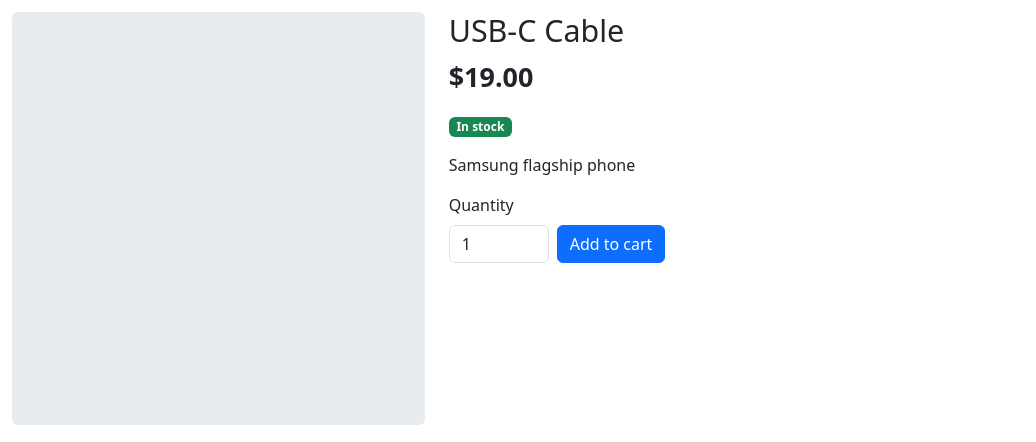
Test: ProductDetails stock › shows the cart's stock message when adding too many
The width and height of the screenshot is (1036, 442).
Click the button "Add to cart": {"x": 611, "y": 244} left=557, top=225, right=665, bottom=263
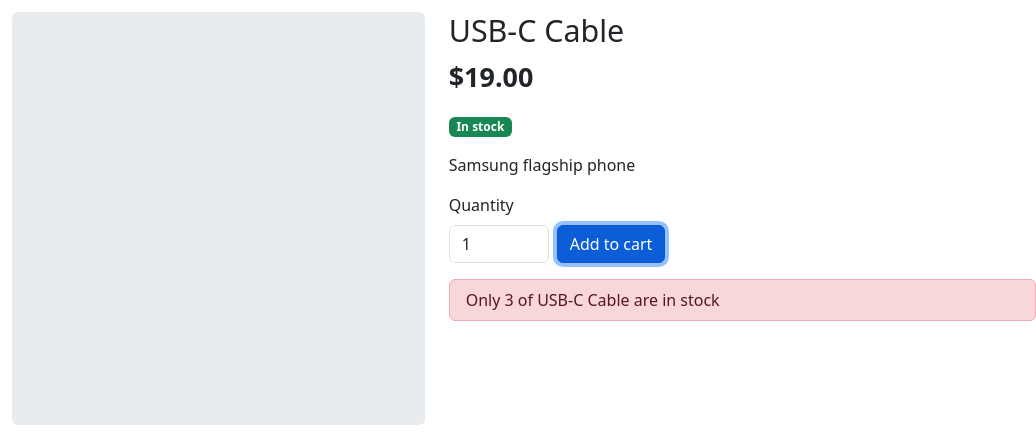
Now the text "Only 3 of USB-C Cable are in stock" is shown, box left=449, top=279, right=1035, bottom=321
